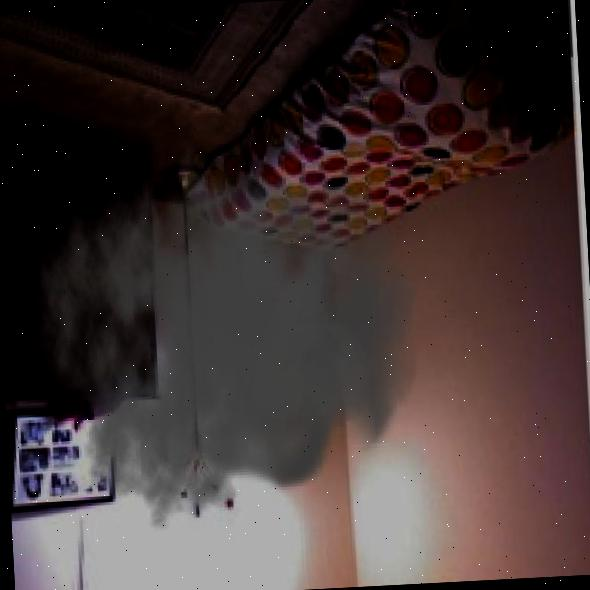smoke: (22, 112, 429, 537)
